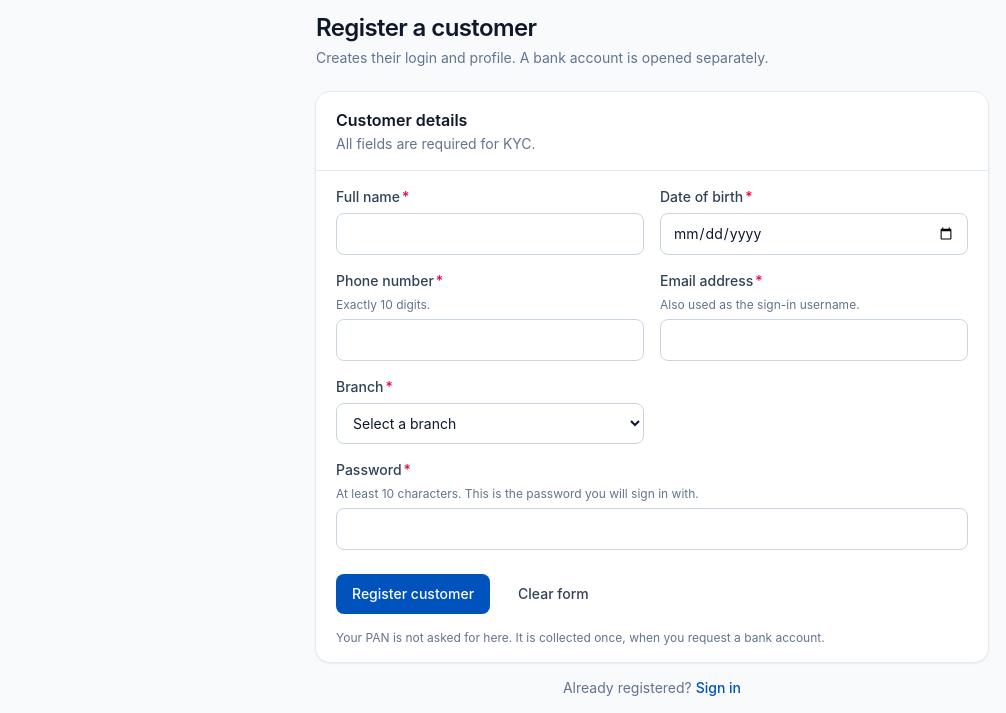
Test case: RegisterPage › confirms a login rather than an account, because none is opened here
Type "Asha Rao" into the field labelled "Full name*" at (490, 234), box [336,213,644,255]
Type "1994-03-21" into the date field labelled "Date of birth*" at (814, 234), box [660,213,968,255]
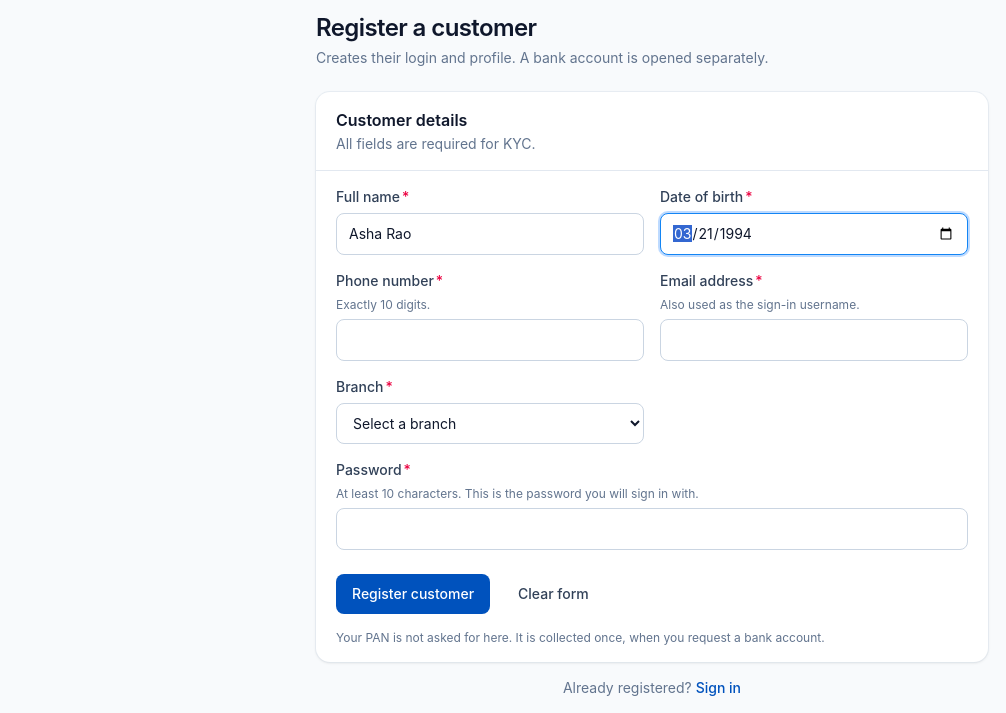
Type "9876543210" into the field labelled "Phone number*" at (490, 340), box [336,319,644,361]
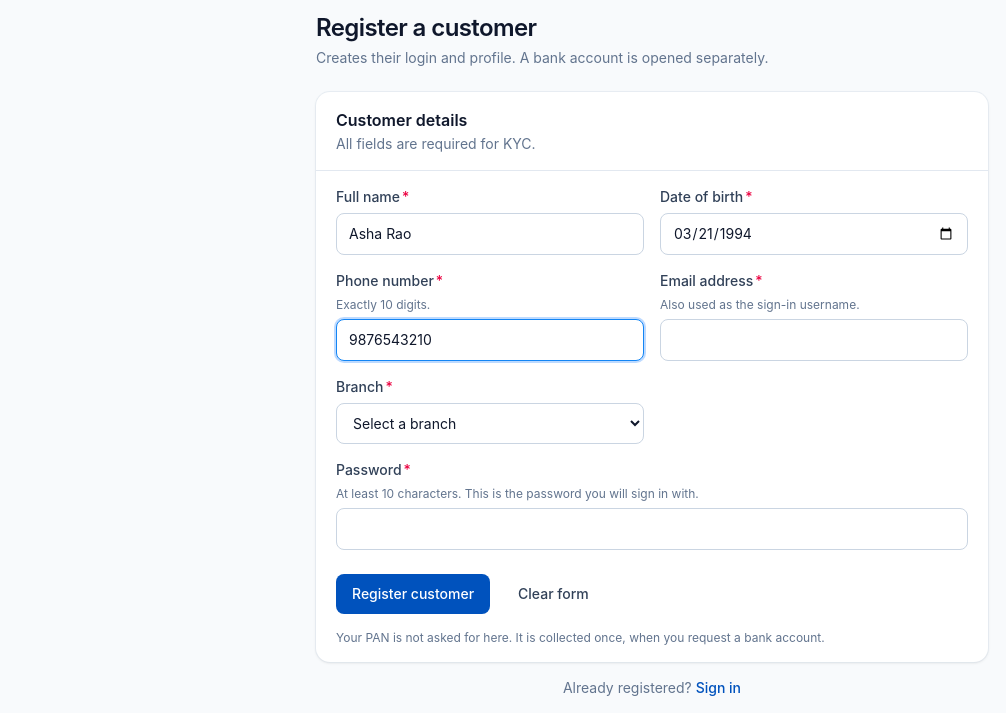
Type "asha.rao@example.com" into the field labelled "Email address*" at (814, 340), box [660,319,968,361]
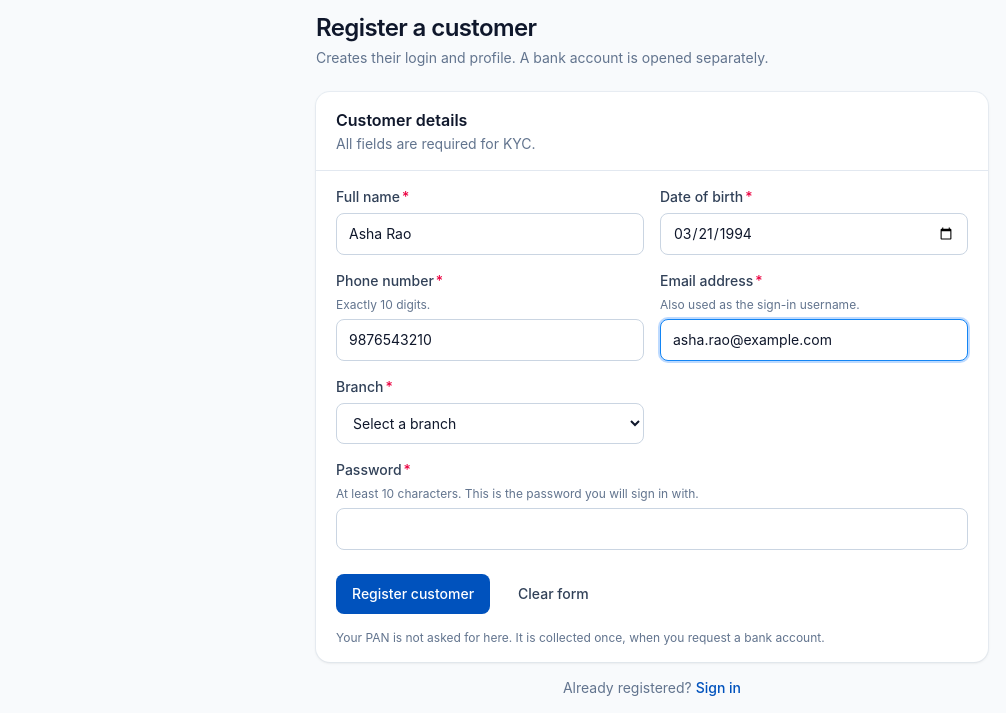
Select "101 - Main Street" in the dropdown labelled "Branch*" at (490, 424), box [336,403,644,444]
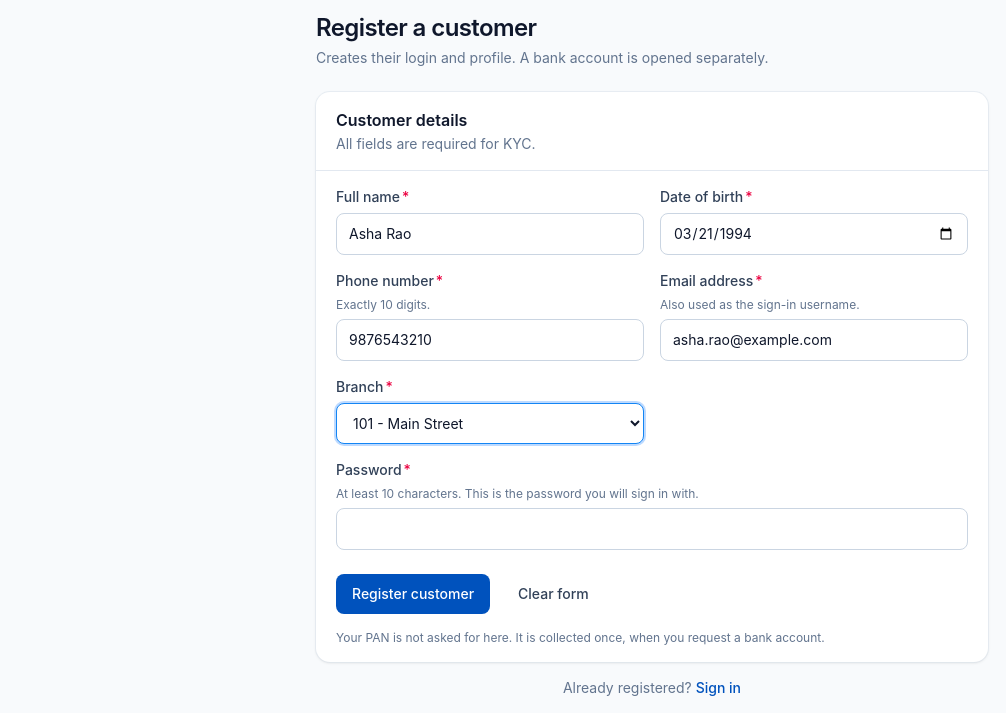
Type "correct-horse-battery" into the password field labelled "Password*" at (652, 529), box [336,508,968,550]
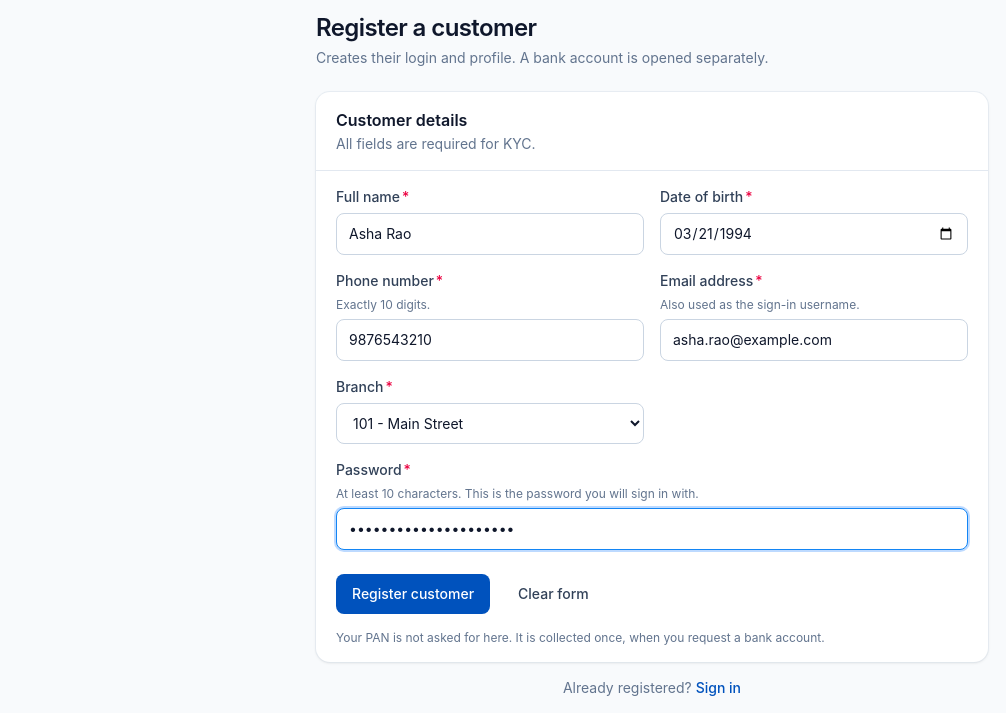
Click the button "Register customer" at (413, 594), box [336,574,490,614]
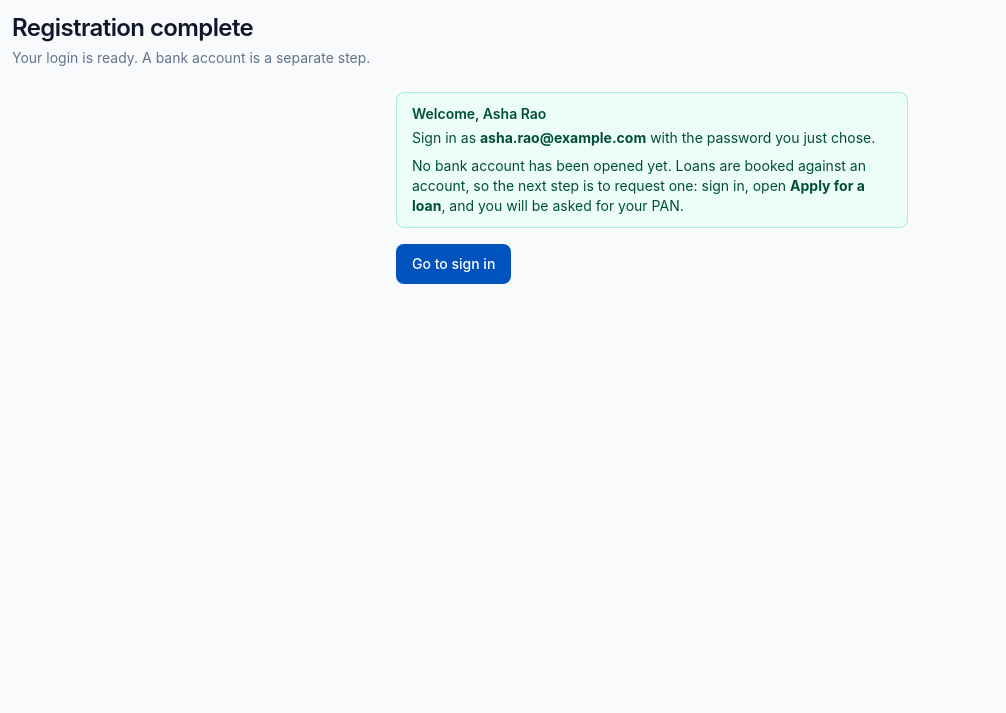
Result: the text "Welcome, Asha Rao" is shown at [412,105,546,122]
Result: the text "No bank account has been opened yet" is shown at [412,157,866,194]
